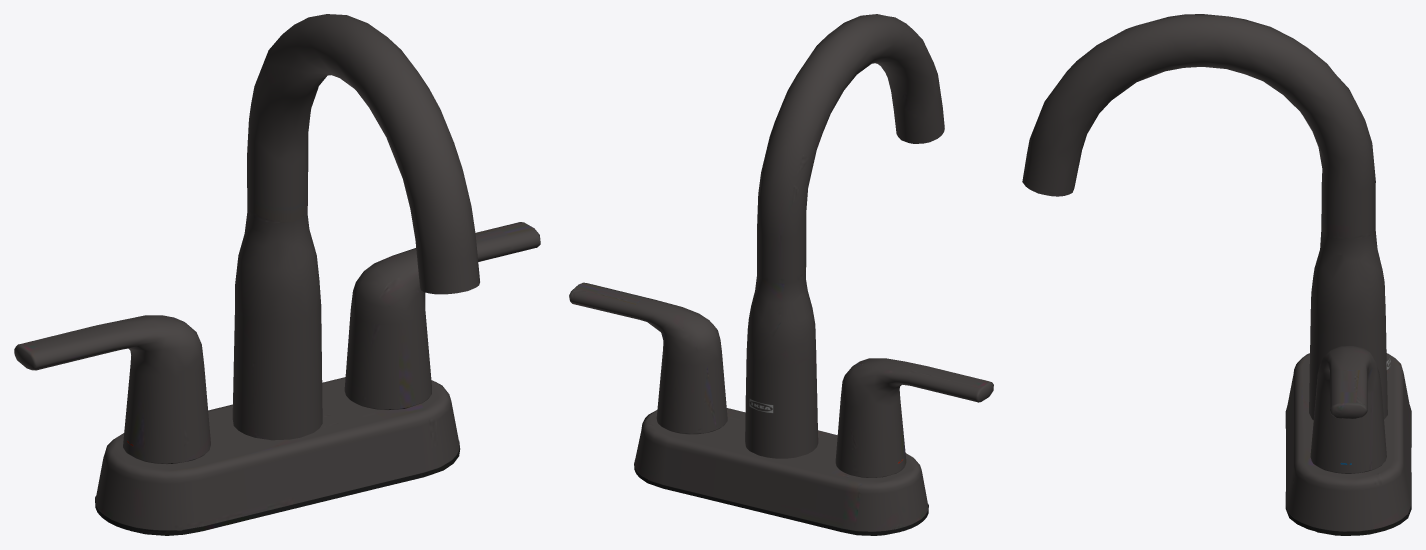
The model's file is macksjoen_centerset_sink_faucet_black.glb.
3 renders of one model, left to right at view 1: azimuth 30°, elevation 25°; view 2: azimuth 150°, elevation 25°; view 3: azimuth 270°, elevation 25°, orthographic. The views are drawn at different scales.
Visible parts, largest first — view 1: ASY_ART_90601361_S01_NV01; view 2: ASY_ART_90601361_S01_NV01; view 3: ASY_ART_90601361_S01_NV01.
Part boxes in pixels (box(x1,y1,x2,y2)): ASY_ART_90601361_S01_NV01: box(14, 14, 540, 535); ASY_ART_90601361_S01_NV01: box(569, 14, 993, 535); ASY_ART_90601361_S01_NV01: box(1022, 14, 1411, 535).
Bounding box in the file's own units: 0.2362 × 0.2267 × 0.178.
2 materials, 2 textured.
